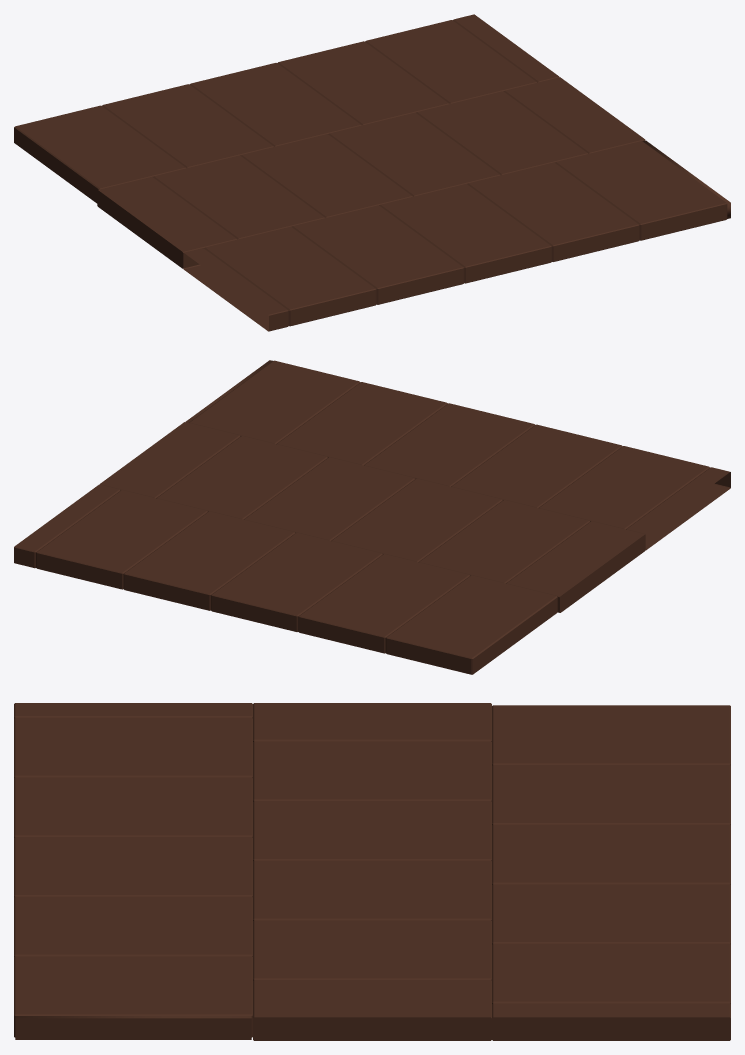
The model's file is Floor2.fbx.
3 views of the same model, one above another, from view 1: azimuth 30°, elevation 25°; view 2: azimuth 150°, elevation 25°; view 3: azimuth 270°, elevation 25° (orthographic). The views are drawn at different scales.
Parts seen in each view (by area): view 1: Floor.001; view 2: Floor.001; view 3: Floor.001.
Part boxes in pixels (x1=…): Floor.001: x1=14, y1=14, x2=730, y2=331; Floor.001: x1=14, y1=360, x2=730, y2=674; Floor.001: x1=14, y1=703, x2=730, y2=1040.
Bounding box in the file's own units: 195 × 6.79 × 188.
